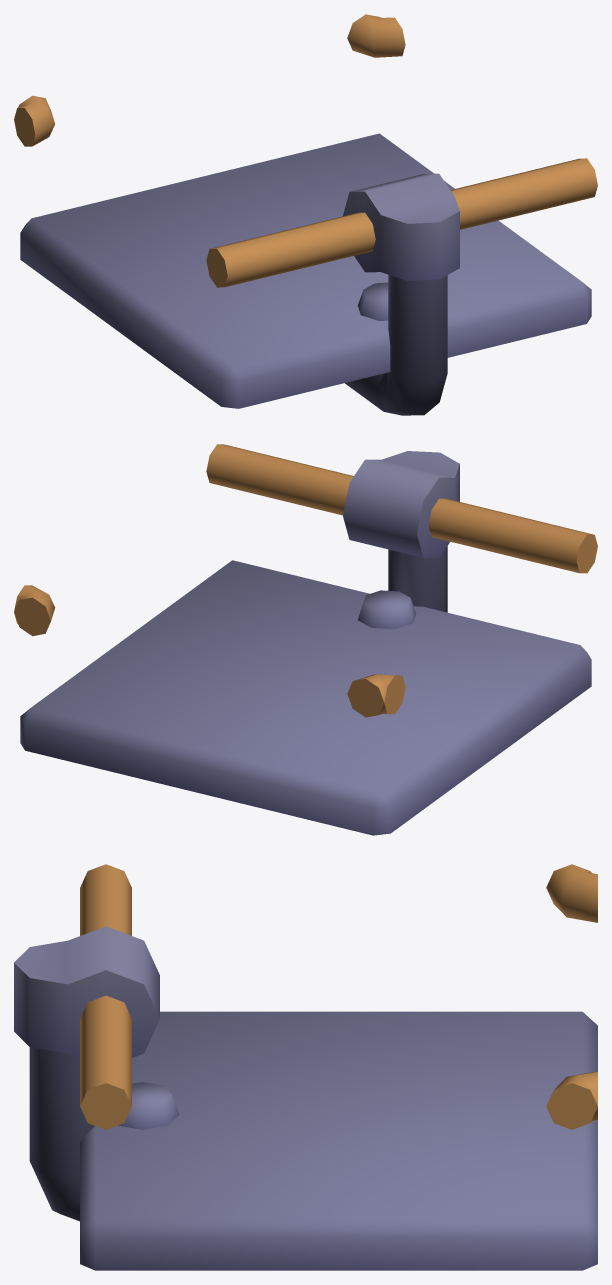
The model's file is catwalk-junction.glb.
3 renders of one model, top to bottom at view 1: azimuth 30°, elevation 25°; view 2: azimuth 150°, elevation 25°; view 3: azimuth 270°, elevation 25°, orthographic. The views are drawn at different scales.
Visible parts, largest first — view 1: catwalk-junction; view 2: catwalk-junction; view 3: catwalk-junction.
Boxes of the visible parts, x1,y1,x2,y2 form: catwalk-junction: (14, 14, 597, 415); catwalk-junction: (14, 444, 597, 835); catwalk-junction: (14, 864, 597, 1270).
Bounding box in the file's own units: 1 × 0.6014 × 1.13.
